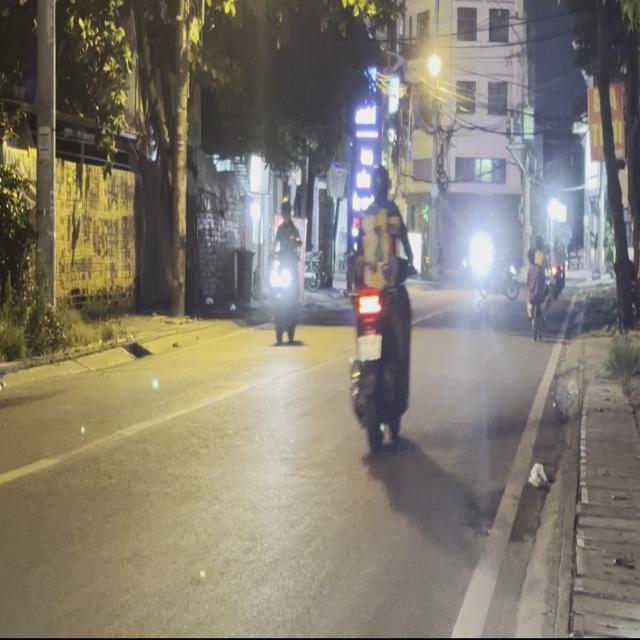helmet: (368, 162, 390, 202)
licenseplate: (346, 159, 416, 455)
nohelmet: (357, 335, 382, 360)
